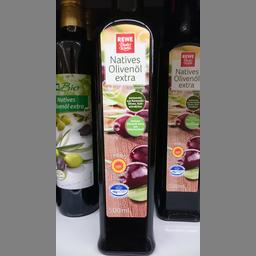oil: (98, 0, 154, 254), (156, 0, 198, 223), (56, 0, 98, 217)
